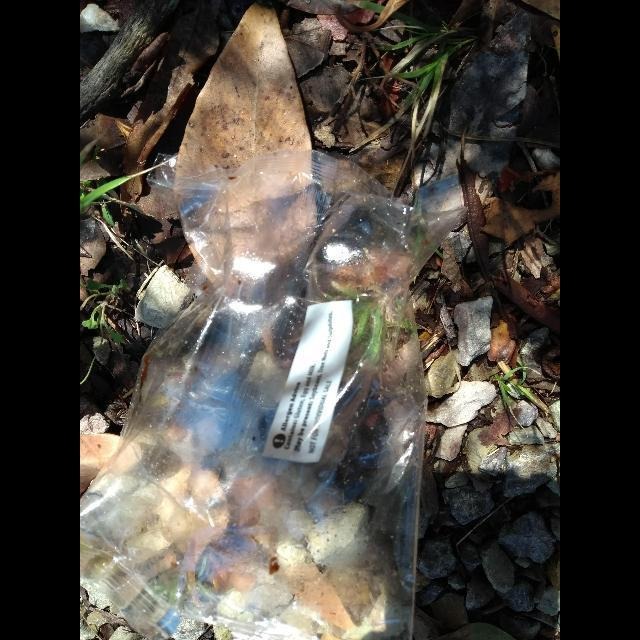Plastic: (81, 150, 467, 640)
